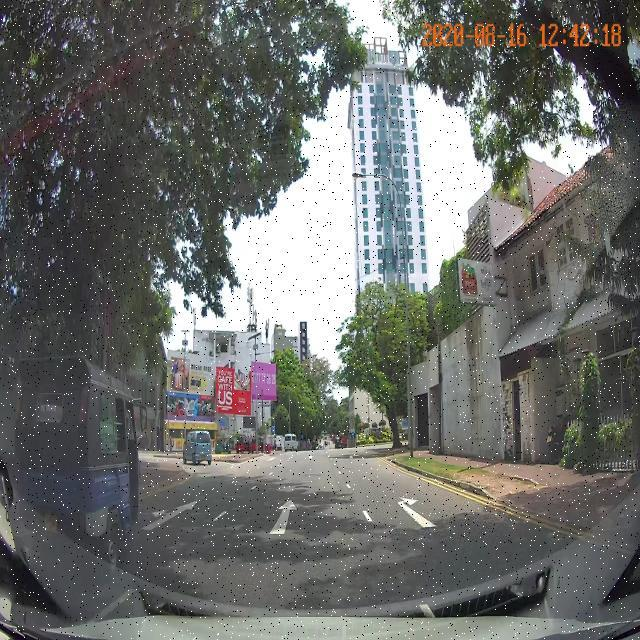forward: (188, 486, 390, 550)
right: (352, 479, 511, 544)
